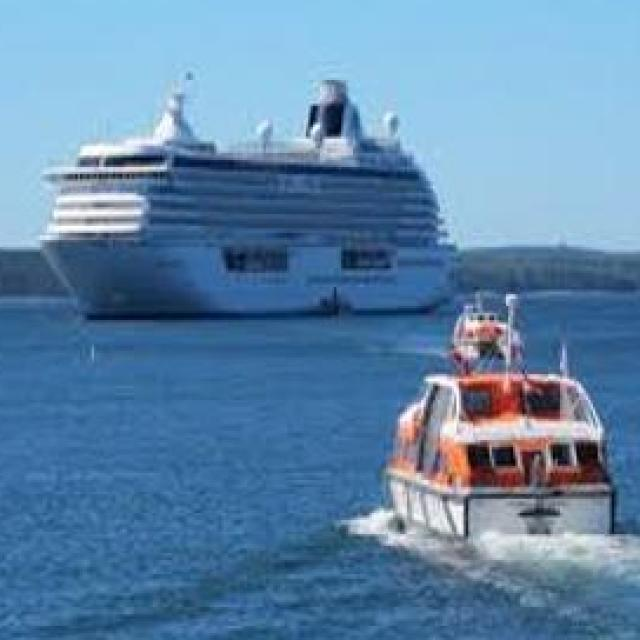navalvessels: (387, 285, 616, 544)
passenger ship: (44, 74, 454, 322)
